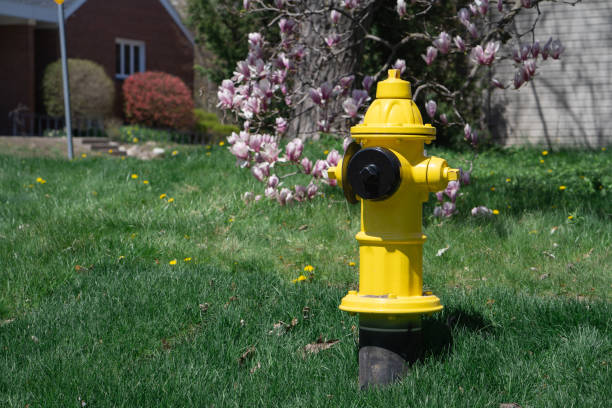firehdyrant: (321, 65, 464, 341)
